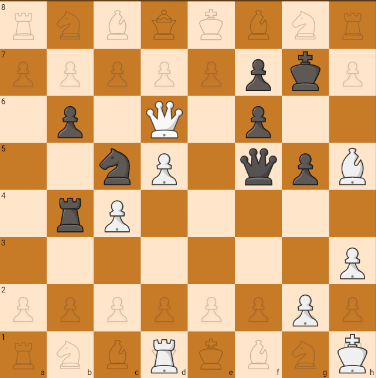bk: (286, 51, 329, 93)
bn: (98, 145, 134, 187)
bp: (51, 100, 88, 141), (288, 147, 324, 188), (241, 101, 277, 140), (242, 54, 276, 92)
bq: (238, 144, 280, 189)
br: (50, 192, 90, 234)
wb: (332, 147, 371, 189), (148, 336, 184, 375)
wk: (142, 98, 186, 140), (334, 334, 373, 375)
wp: (285, 287, 325, 332), (143, 150, 183, 188), (101, 196, 134, 236), (339, 245, 369, 281)
